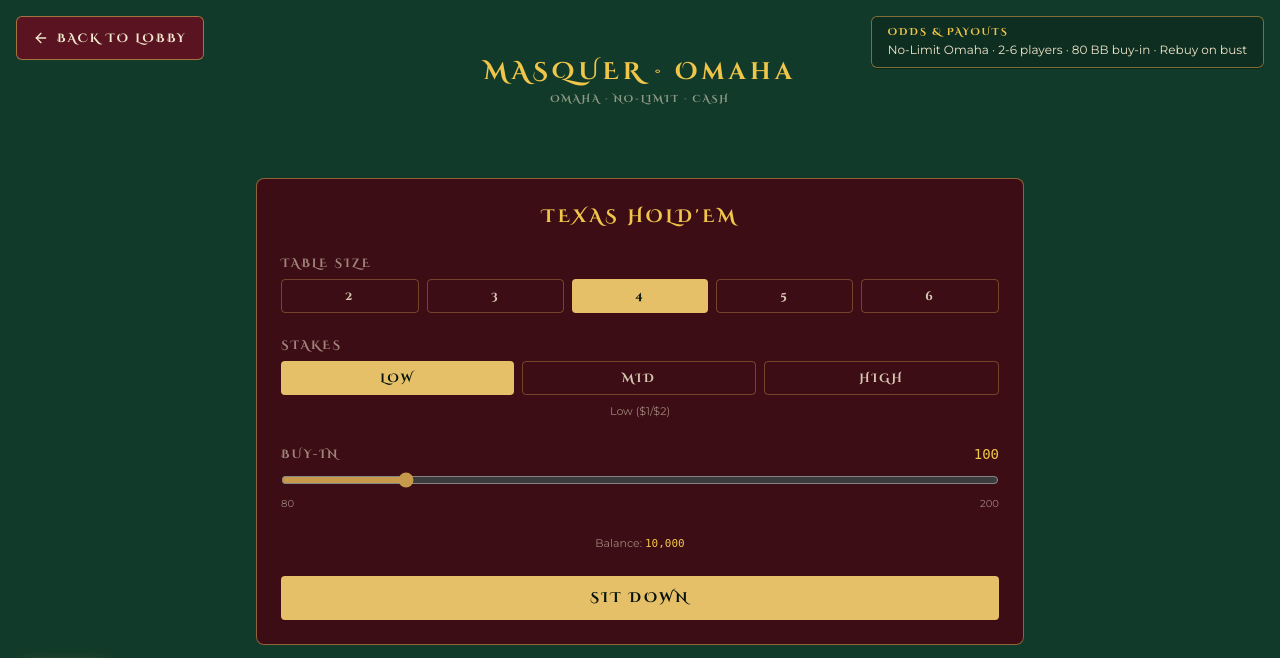
Test: OmahaPage — gameplay › community board renders with correct data-board-card slots
Click the button "2" at (350, 296), box [281,279,419,313]
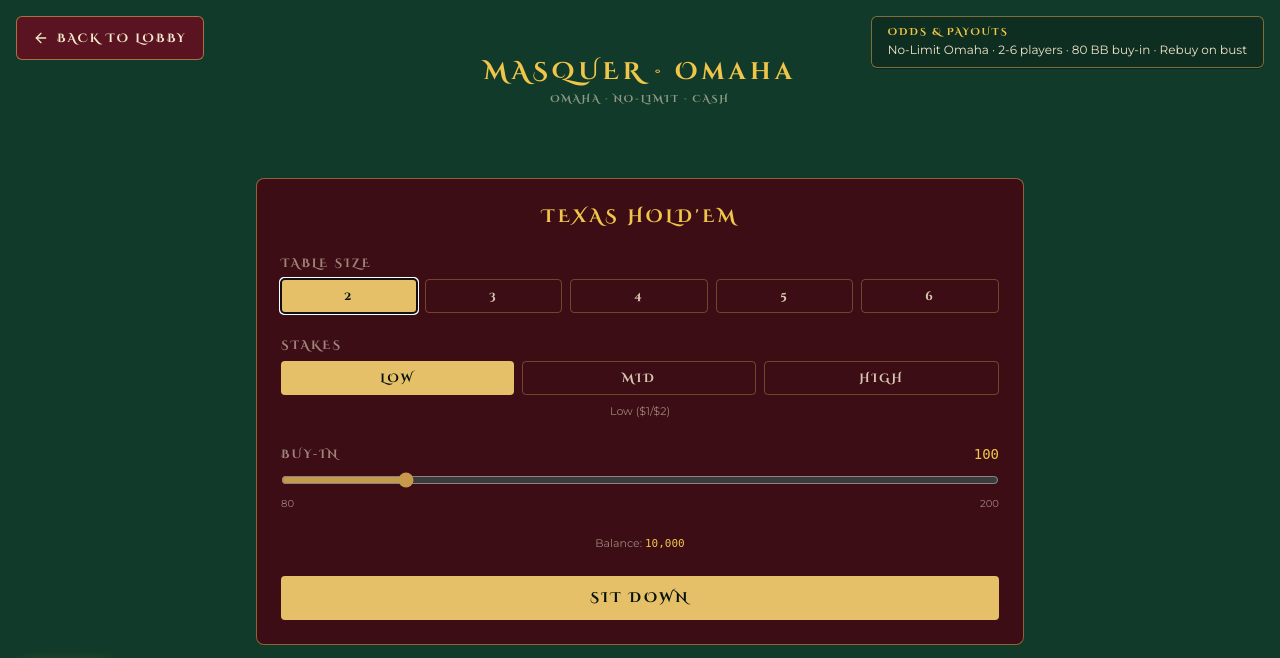
Click the button "SIT DOWN" at (640, 598), box [281,576,999,620]
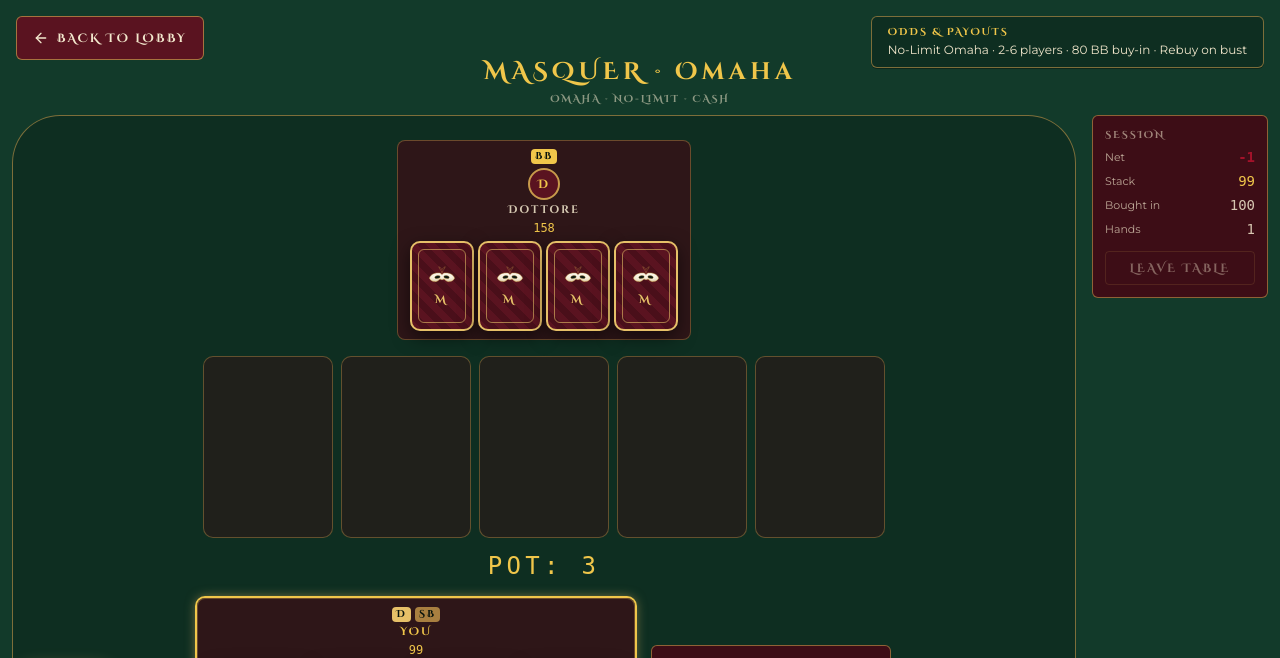
Expected: the button "LEAVE TABLE" is shown, [1105,251,1255,285]
Expected: the element showing "POT: 3" is shown, [203,356,885,582]
